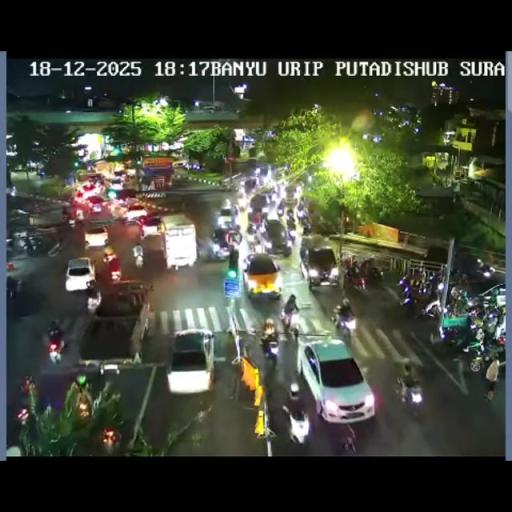Car: (298, 336, 374, 422), (78, 282, 153, 365), (166, 328, 215, 394), (154, 213, 196, 269), (242, 252, 282, 298), (300, 242, 338, 288), (258, 218, 290, 255), (65, 256, 94, 292), (214, 203, 236, 232), (248, 192, 270, 219), (138, 214, 162, 238), (83, 224, 107, 246), (110, 187, 138, 203), (124, 203, 146, 221), (85, 195, 106, 213), (99, 362, 120, 376), (244, 178, 258, 194), (172, 159, 188, 169), (110, 176, 124, 187)
Motorcycle: (460, 325, 504, 373), (400, 278, 438, 318), (435, 287, 472, 321), (394, 371, 423, 405), (286, 410, 310, 444), (64, 360, 102, 381), (332, 306, 355, 337), (280, 307, 301, 339), (343, 266, 367, 291), (46, 334, 65, 364), (260, 330, 279, 360), (23, 235, 44, 255), (365, 265, 384, 287), (341, 428, 357, 454), (466, 302, 486, 322), (86, 285, 100, 313), (6, 275, 20, 302), (490, 314, 504, 341), (246, 215, 264, 235), (408, 266, 424, 288), (212, 242, 231, 260), (46, 240, 65, 258), (10, 232, 26, 252), (250, 232, 264, 254), (485, 378, 497, 402), (477, 262, 494, 278), (102, 247, 118, 264), (284, 224, 296, 244), (296, 205, 310, 222), (272, 184, 286, 201), (285, 208, 295, 228), (134, 251, 144, 268), (458, 270, 468, 286), (301, 221, 312, 235), (344, 256, 355, 270), (276, 200, 285, 217), (293, 184, 302, 201), (224, 178, 235, 191), (238, 199, 247, 212), (36, 169, 46, 178), (68, 217, 75, 229)
